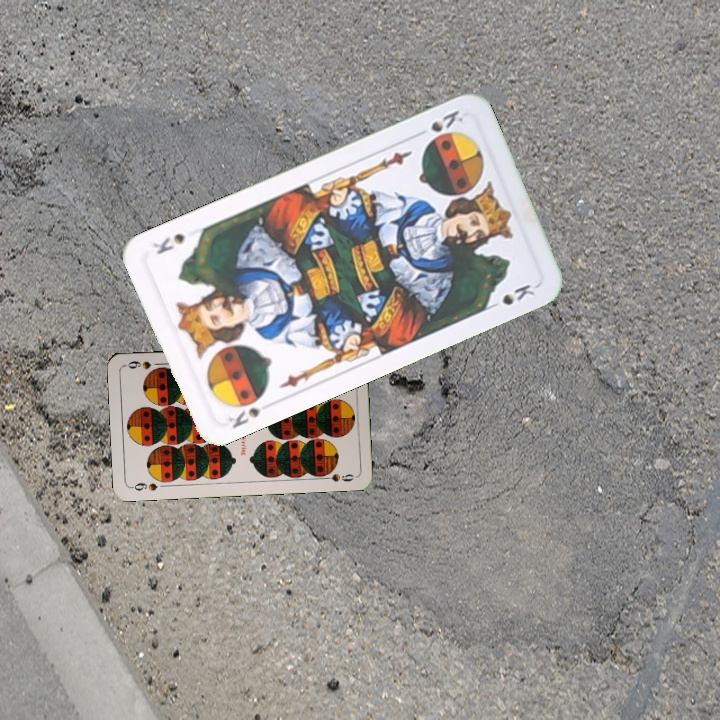S9: (127, 478, 160, 494)
SK: (411, 106, 466, 140), (224, 403, 263, 431)
